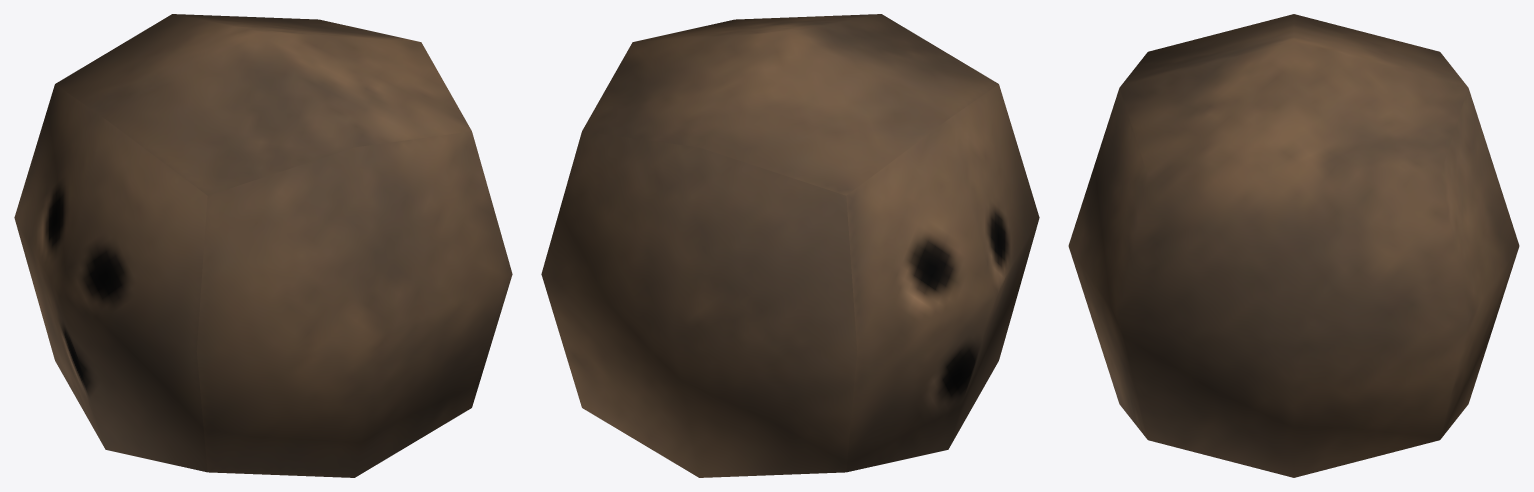
File: Coconut.fbx
3 views of the same model, side by side, from view 1: azimuth 30°, elevation 25°; view 2: azimuth 150°, elevation 25°; view 3: azimuth 270°, elevation 25° (orthographic). The views are drawn at different scales.
Visible parts, largest first — view 1: Coconut; view 2: Coconut; view 3: Coconut.
Boxes of the visible parts, <box> form: Coconut: <box>14,14,512,477</box>; Coconut: <box>541,14,1039,477</box>; Coconut: <box>1068,14,1519,477</box>.
Bounding box in the file's own units: 98.78 × 98.78 × 98.78.
